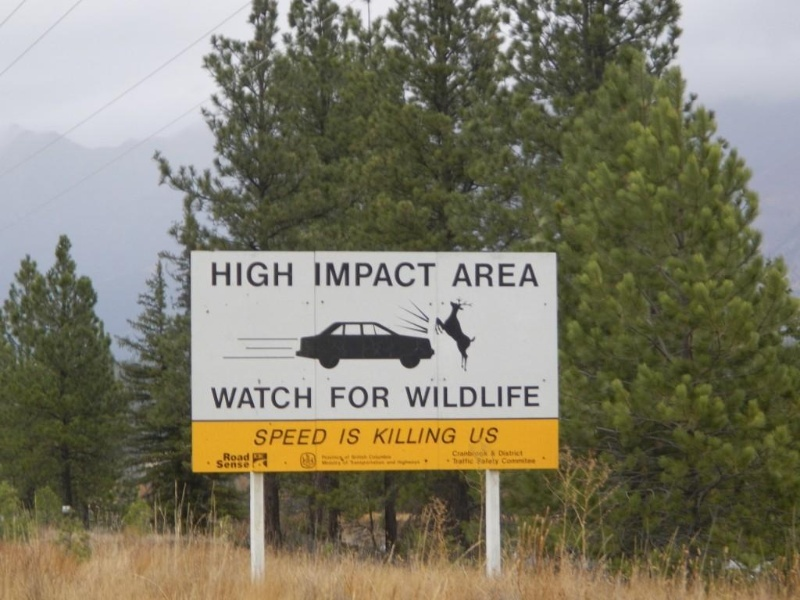text: (465, 261, 480, 288), (481, 261, 496, 288), (497, 261, 512, 288), (513, 261, 528, 288), (225, 261, 240, 287), (241, 261, 256, 287), (257, 261, 272, 287), (273, 261, 288, 287), (321, 261, 336, 287), (337, 261, 352, 287), (353, 261, 368, 287), (369, 261, 384, 287), (385, 261, 400, 287), (401, 261, 416, 287), (417, 261, 432, 287), (225, 385, 240, 410), (241, 385, 256, 410), (257, 385, 272, 410), (273, 385, 288, 410), (289, 385, 304, 410), (337, 386, 352, 409), (353, 386, 368, 409), (369, 386, 384, 409), (417, 385, 432, 408), (433, 385, 448, 408), (449, 385, 464, 408), (465, 385, 480, 408), (481, 385, 496, 408), (497, 385, 512, 408), (513, 385, 528, 408), (211, 261, 224, 287), (211, 385, 224, 410), (452, 261, 464, 288), (529, 261, 540, 288), (385, 426, 400, 445), (401, 426, 416, 445), (417, 426, 432, 445), (433, 426, 448, 445), (404, 385, 416, 408), (529, 385, 541, 408), (257, 429, 272, 447), (273, 429, 288, 447), (289, 429, 304, 447), (305, 429, 320, 447), (481, 426, 496, 444), (338, 427, 352, 446), (305, 385, 314, 410), (373, 426, 384, 445), (470, 426, 480, 444), (449, 426, 458, 445), (329, 386, 336, 409), (314, 261, 320, 287), (353, 427, 361, 446), (385, 386, 391, 409), (225, 460, 240, 469), (225, 453, 240, 462), (465, 449, 480, 458), (289, 261, 294, 287), (321, 429, 328, 447), (498, 450, 512, 458), (452, 449, 464, 458), (465, 458, 480, 465), (481, 458, 496, 465), (497, 458, 512, 465), (513, 458, 528, 465), (433, 261, 437, 287), (513, 450, 525, 458), (241, 460, 251, 469), (241, 453, 251, 462), (337, 454, 352, 460), (353, 454, 368, 460), (369, 454, 384, 460), (322, 454, 336, 460), (452, 458, 464, 465), (337, 460, 352, 465), (353, 460, 368, 465), (369, 460, 384, 465), (385, 460, 400, 465), (401, 460, 416, 465), (322, 460, 336, 465), (217, 460, 224, 469), (481, 449, 488, 458), (497, 426, 500, 444), (529, 458, 536, 465), (385, 454, 393, 460), (490, 450, 496, 458), (254, 429, 256, 447), (417, 460, 421, 465), (223, 453, 224, 462)
